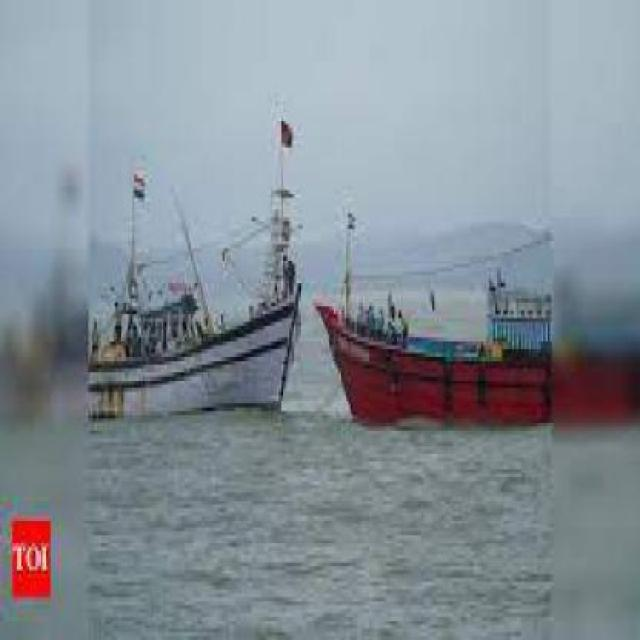fish-b: (85, 102, 314, 420), (313, 182, 566, 455)
